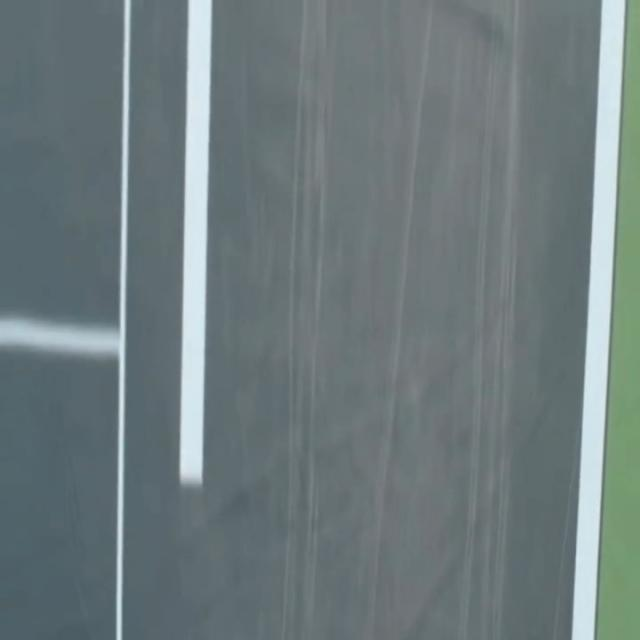center: (180, 0, 212, 486)
right: (572, 0, 625, 639)
